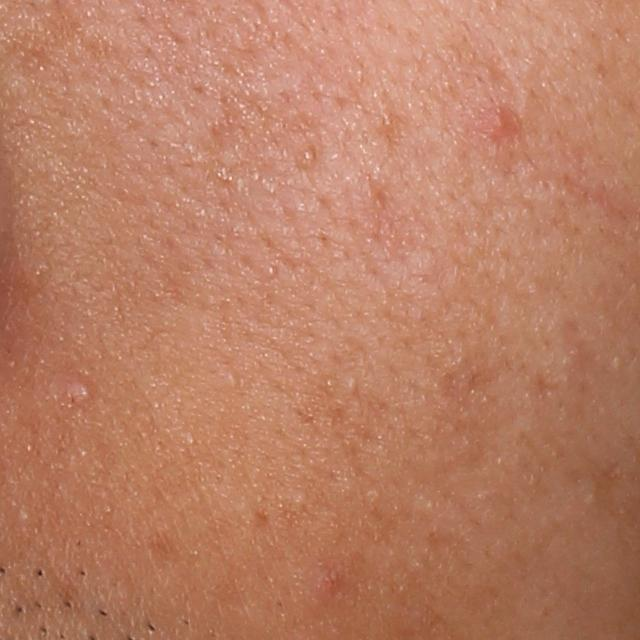papule: (474, 101, 519, 145)
